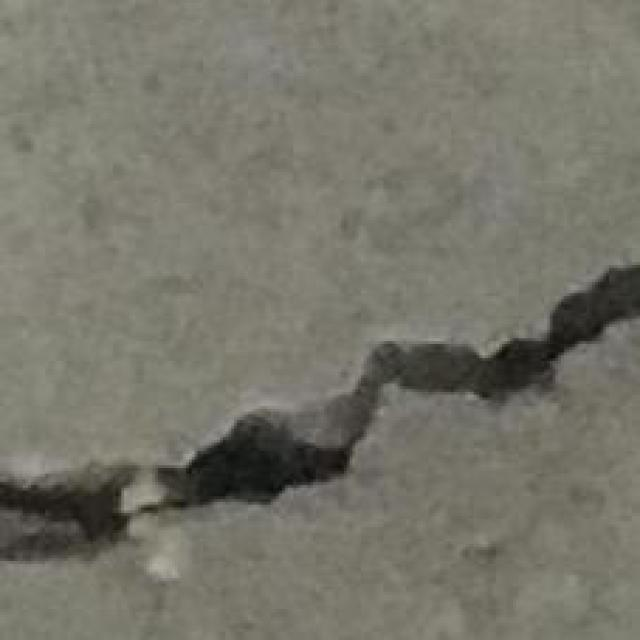diagonal crack: (0, 264, 639, 539)
